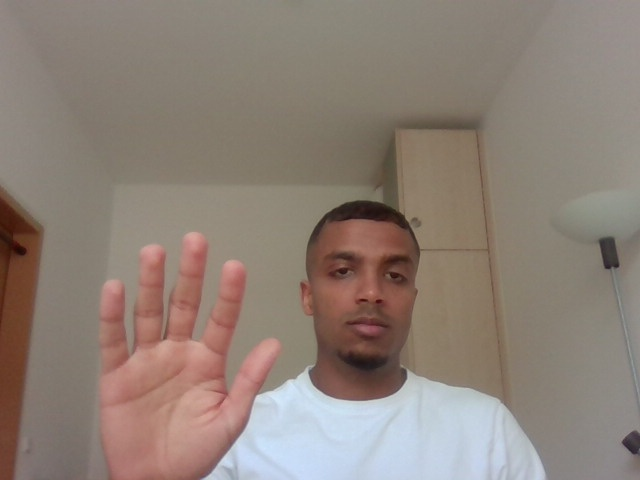never: (78, 217, 289, 480)
